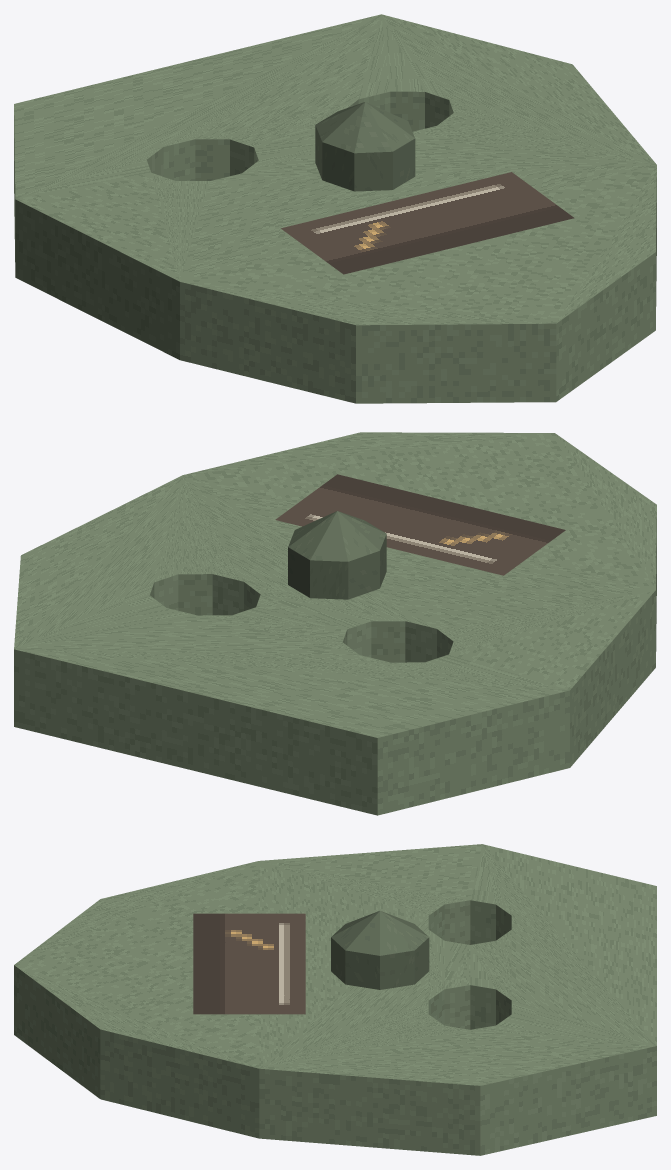
Rendered from zombie_mask.glb.
3 views of the same model, one above another, from view 1: azimuth 30°, elevation 25°; view 2: azimuth 150°, elevation 25°; view 3: azimuth 270°, elevation 25° (orthographic). The views are drawn at different scales.
Parts seen in each view (by area): view 1: block_costume face, block_torn leather mouth and seams, block_distorted nose; view 2: block_costume face, block_torn leather mouth and seams, block_distorted nose; view 3: block_costume face, block_torn leather mouth and seams, block_distorted nose.
Boxes of the visible parts, left/top/right/bottom form: block_costume face: left=14, top=14, right=656, bottom=403; block_torn leather mouth and seams: left=281, top=172, right=574, bottom=274; block_distorted nose: left=315, top=102, right=415, bottom=191; block_costume face: left=14, top=432, right=656, bottom=815; block_torn leather mouth and seams: left=275, top=474, right=565, bottom=575; block_distorted nose: left=288, top=511, right=386, bottom=599; block_costume face: left=14, top=844, right=656, bottom=1155; block_torn leather mouth and seams: left=193, top=913, right=305, bottom=1014; block_distorted nose: left=331, top=911, right=429, bottom=989.
Size of the model in its own units: 0.1408 by 0.0354 by 0.1581.
Materials: 1 (1 with a texture image).
